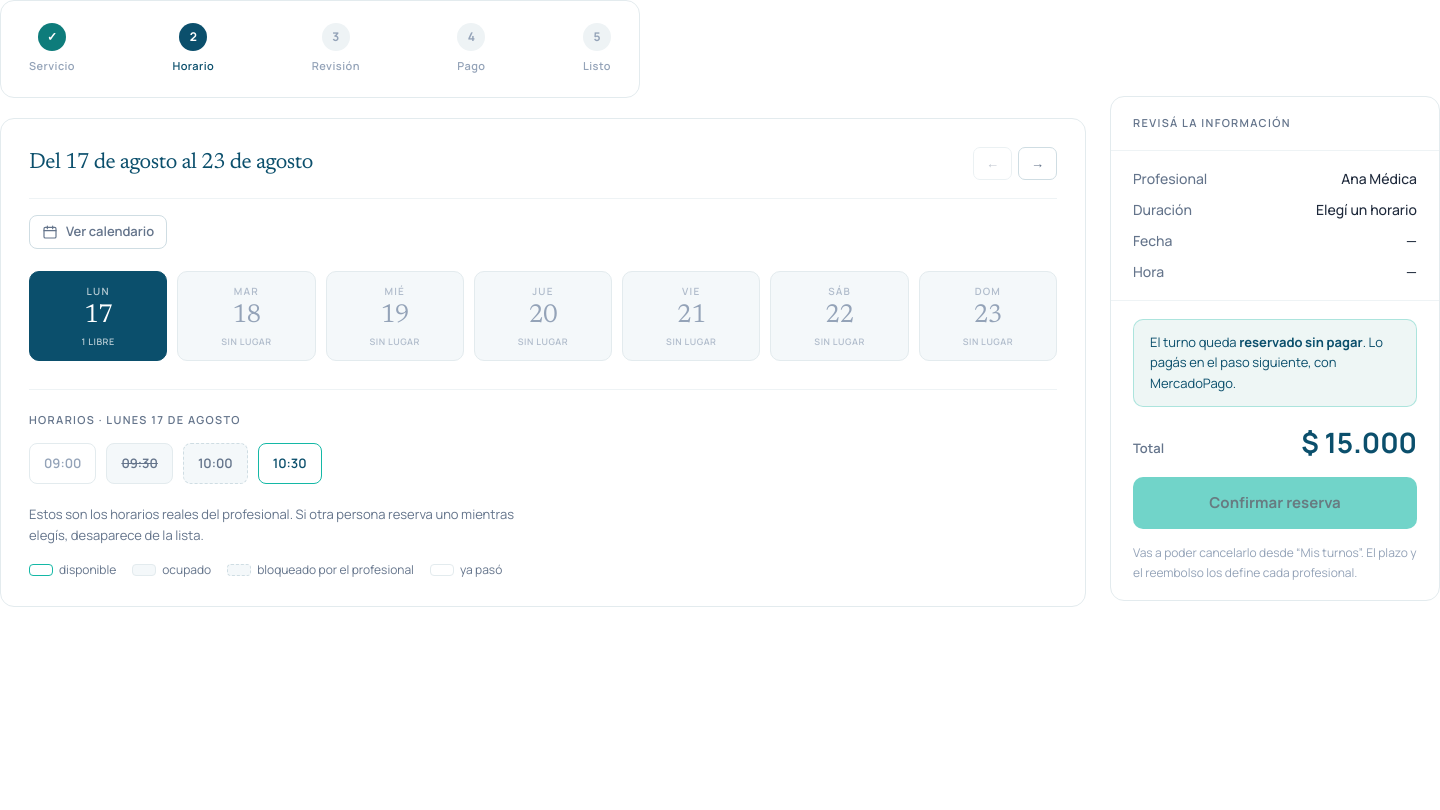
Test: BookAppointment › muestra el mensaje del backend si el turno se lo llevó otro
Click the button labelled "10:30" at (290,463), box left=258, top=442, right=322, bottom=484
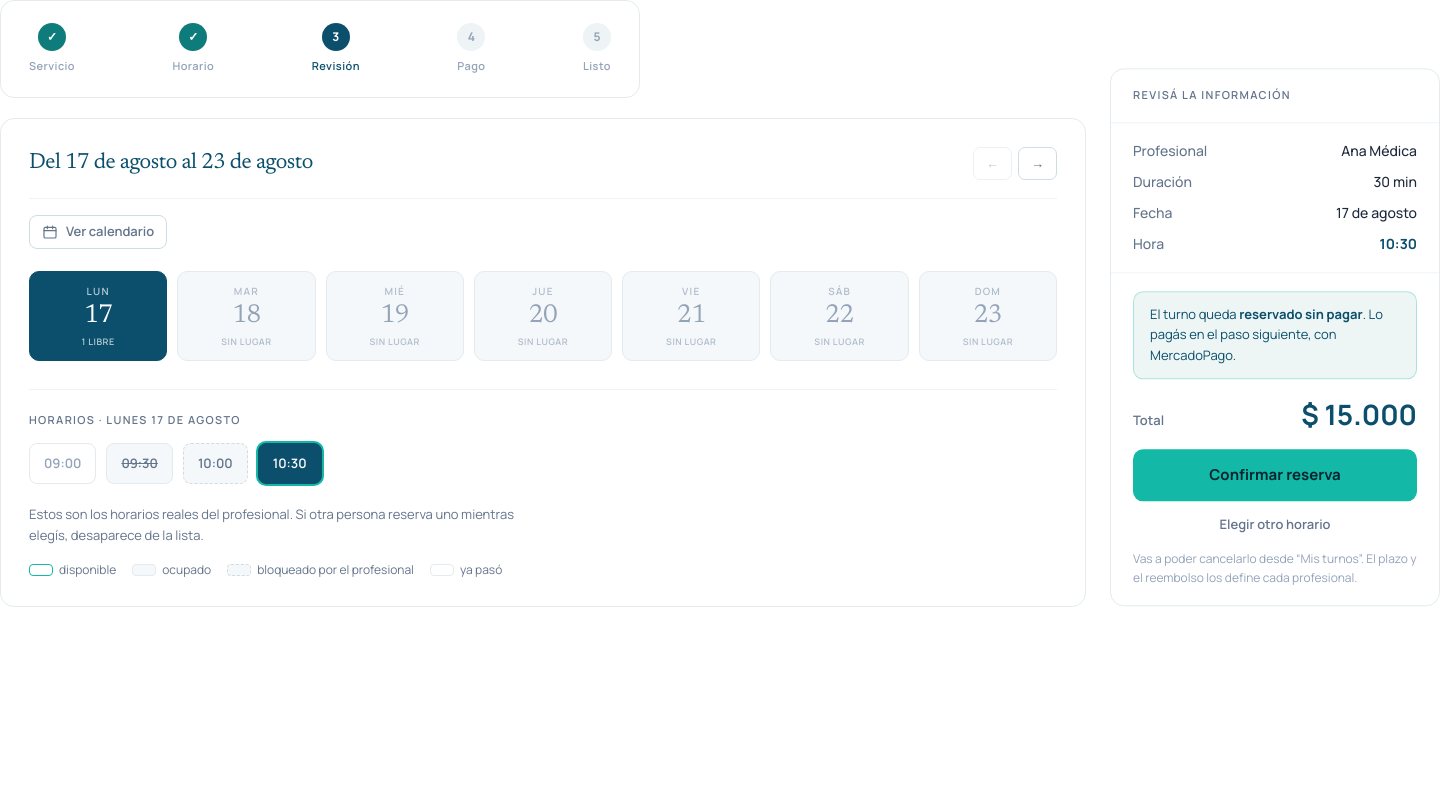
Click the button "Confirmar reserva" at (1275,475), box left=1133, top=449, right=1417, bottom=502
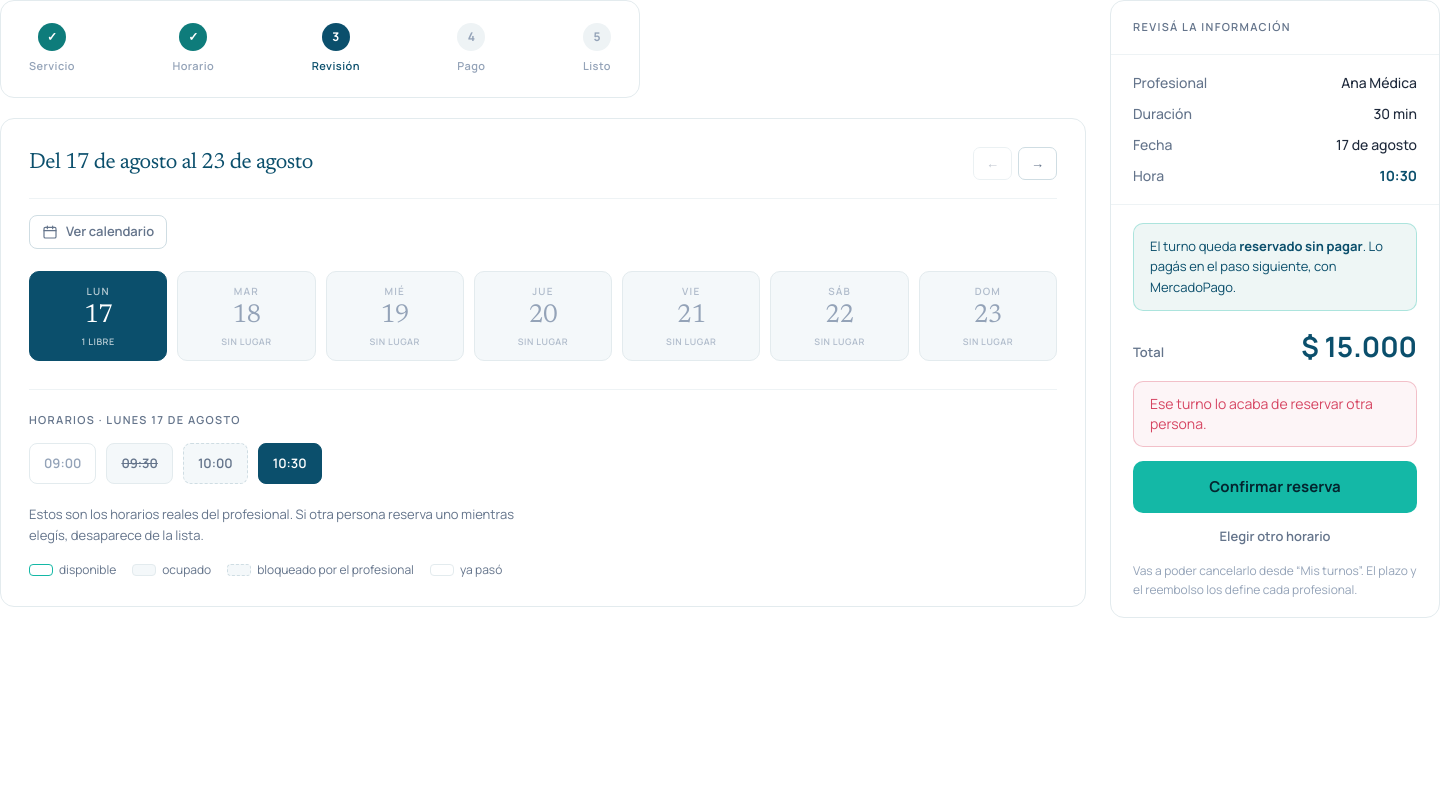
Check: the message shows "acaba de reservar otra persona", box left=1150, top=394, right=1373, bottom=433
